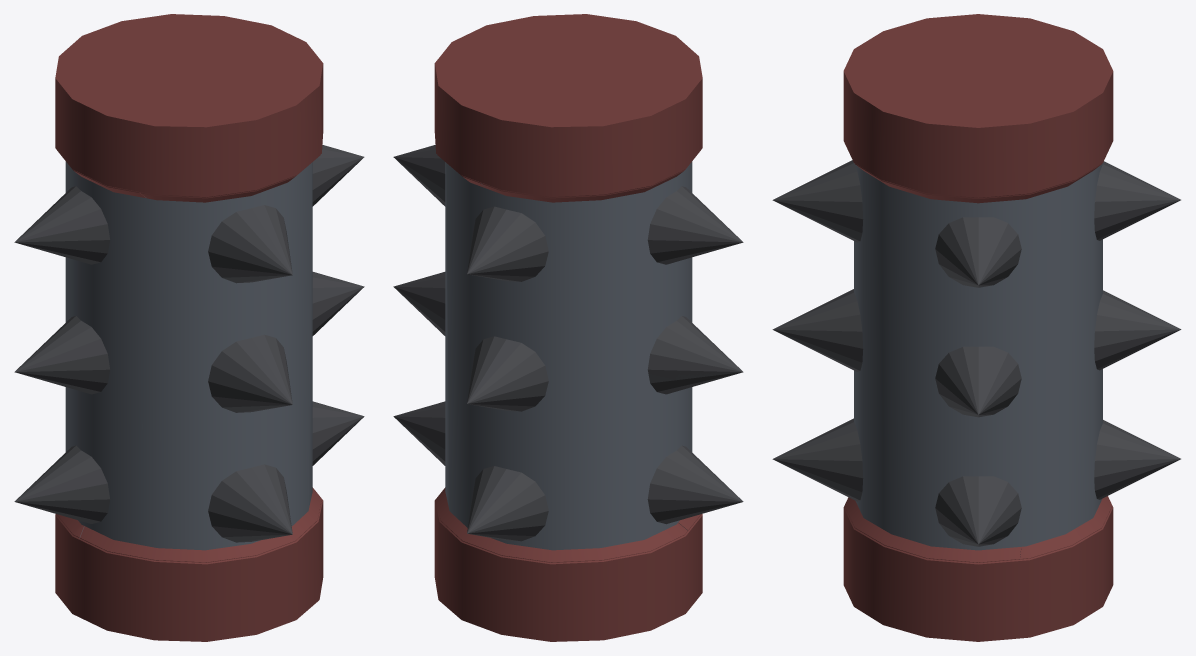
The model's file is ColumnSpikesFractured3.fbx.
The picture shows the model from 3 angles, left to right: view 1: azimuth 30°, elevation 25°; view 2: azimuth 150°, elevation 25°; view 3: azimuth 270°, elevation 25°; orthographic projection.
Visible parts, largest first — view 1: Цилиндр_Цилиндр.001, Конус.001_Конус.004, Конус.001_Конус.004_cell.020, Конус.001_Конус.004_cell.018, Конус.001_Конус.004_cell.007, Цилиндр_Цилиндр.001_cell.002, Конус.001_Конус.004_cell, Конус.001_Конус.004_cell.003, Конус.001_Конус.004_cell.005, Цилиндр_Цилиндр.001_cell; view 2: Цилиндр_Цилиндр.001, Конус.001_Конус.004, Конус.001_Конус.004_cell.006, Цилиндр_Цилиндр.001_cell.004, Конус.001_Конус.004_cell.005, Конус.001_Конус.004_cell.009, Конус.001_Конус.004_cell.012, Цилиндр_Цилиндр.001_cell.003, Конус.001_Конус.004_cell.017, Конус.001_Конус.004_cell.016, Конус.001_Конус.004_cell.002; view 3: Цилиндр_Цилиндр.001, Конус.001_Конус.004, Конус.001_Конус.004_cell.020, Конус.001_Конус.004_cell.007, Цилиндр_Цилиндр.001_cell.002, Конус.001_Конус.004_cell.009, Конус.001_Конус.004_cell.003, Конус.001_Конус.004_cell.012, Конус.001_Конус.004_cell, Цилиндр_Цилиндр.001_cell.004, Цилиндр_Цилиндр.001_cell.001, Конус.001_Конус.004_cell.017 (+2 smaller).
Part boxes in pixels (box(x1,y1,x2,y2)): Цилиндр_Цилиндр.001: box(55, 14, 323, 641); Конус.001_Конус.004: box(14, 145, 364, 542); Конус.001_Конус.004_cell.020: box(208, 464, 292, 537); Конус.001_Конус.004_cell.018: box(14, 457, 110, 523); Конус.001_Конус.004_cell.007: box(211, 334, 292, 404); Цилиндр_Цилиндр.001_cell.002: box(80, 421, 321, 562); Конус.001_Конус.004_cell: box(213, 205, 292, 274); Конус.001_Конус.004_cell.003: box(312, 408, 361, 465); Конус.001_Конус.004_cell.005: box(30, 316, 109, 369); Цилиндр_Цилиндр.001_cell: box(140, 176, 295, 202); Цилиндр_Цилиндр.001: box(434, 14, 702, 641); Конус.001_Конус.004: box(393, 145, 743, 534); Конус.001_Конус.004_cell.006: box(647, 191, 743, 264); Цилиндр_Цилиндр.001_cell.004: box(436, 491, 687, 562); Конус.001_Конус.004_cell.005: box(652, 316, 727, 368); Конус.001_Конус.004_cell.009: box(393, 145, 445, 206); Конус.001_Конус.004_cell.012: box(467, 209, 548, 281); Цилиндр_Цилиндр.001_cell.003: box(481, 150, 700, 341); Конус.001_Конус.004_cell.017: box(468, 345, 548, 411); Конус.001_Конус.004_cell.016: box(467, 523, 541, 541); Конус.001_Конус.004_cell.002: box(394, 287, 445, 335); Цилиндр_Цилиндр.001: box(843, 14, 1113, 641); Конус.001_Конус.004: box(772, 161, 1181, 546); Конус.001_Конус.004_cell.020: box(772, 418, 862, 491); Конус.001_Конус.004_cell.007: box(773, 289, 862, 348); Цилиндр_Цилиндр.001_cell.002: box(844, 497, 1020, 562); Конус.001_Конус.004_cell.009: box(964, 217, 1021, 287); Конус.001_Конус.004_cell.003: box(942, 476, 999, 546); Конус.001_Конус.004_cell.012: box(1094, 161, 1180, 240); Конус.001_Конус.004_cell: box(773, 160, 861, 201); Цилиндр_Цилиндр.001_cell.004: box(1019, 496, 1112, 559); Цилиндр_Цилиндр.001_cell.001: box(855, 163, 1102, 203); Конус.001_Конус.004_cell.017: box(1095, 329, 1180, 370).
Bounding box in the file's own units: 147 × 207 × 149.
